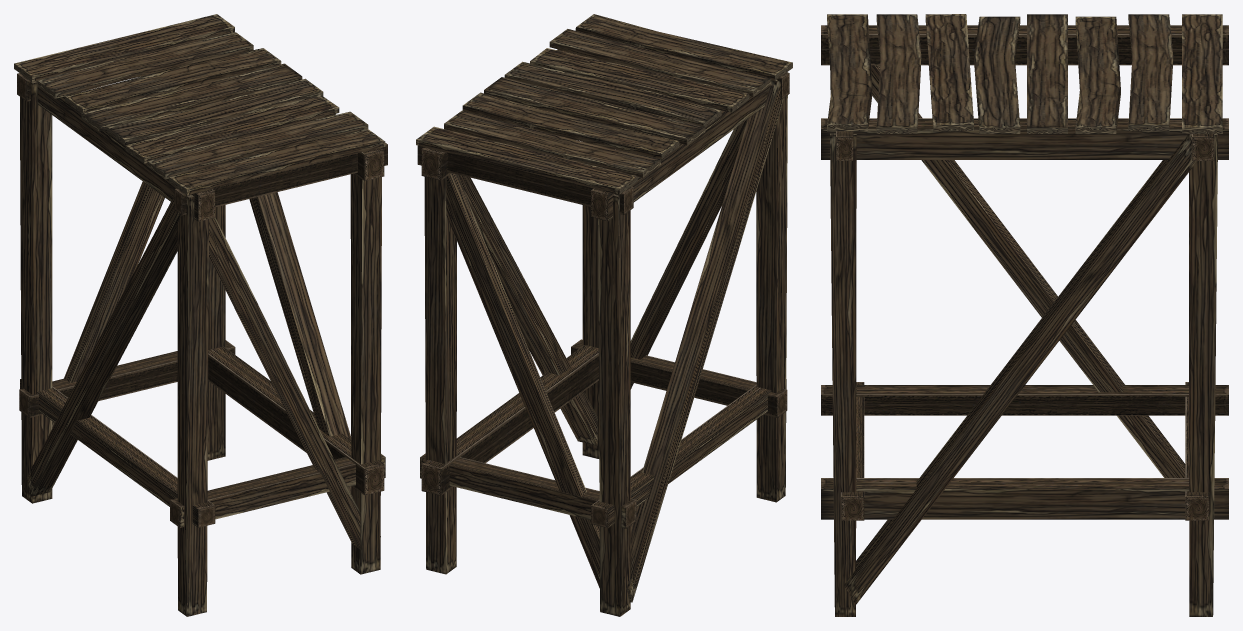
The model's file is Wood_4X8X6_01.fbx.
The picture shows the model from 3 angles, left to right: view 1: azimuth 30°, elevation 25°; view 2: azimuth 150°, elevation 25°; view 3: azimuth 270°, elevation 25°; orthographic projection. The views are drawn at different scales.
Visible parts, largest first — view 1: Wood_4X8X6_01; view 2: Wood_4X8X6_01; view 3: Wood_4X8X6_01.
Part boxes in pixels (x1,y1,x2,y2): Wood_4X8X6_01: [14, 14, 387, 616]; Wood_4X8X6_01: [416, 14, 792, 616]; Wood_4X8X6_01: [821, 14, 1228, 616].
Size of the model in its own units: 4 by 8 by 6.
